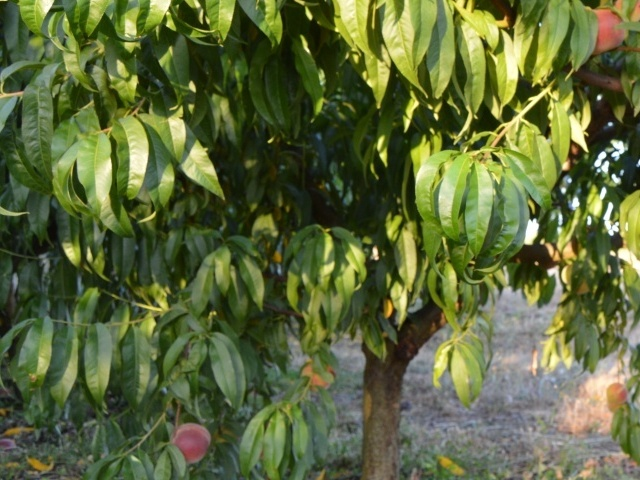peach: (586, 2, 628, 58), (170, 417, 214, 467), (300, 357, 339, 391), (604, 382, 628, 408)
